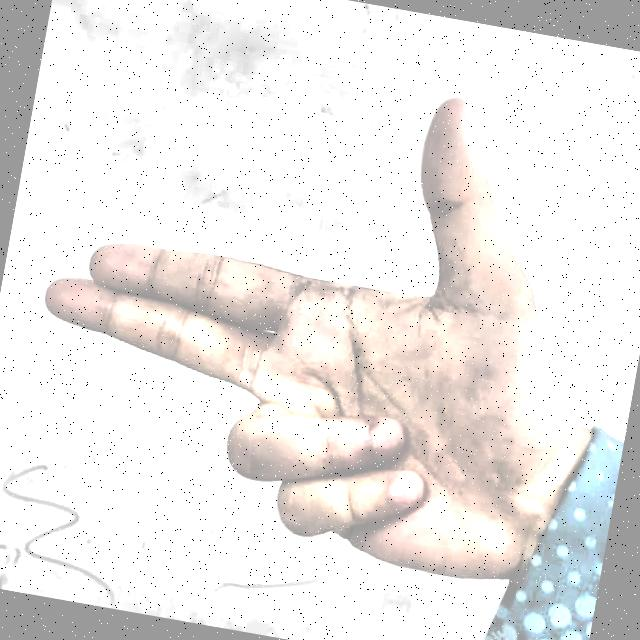Jha: (0, 1, 634, 640)
